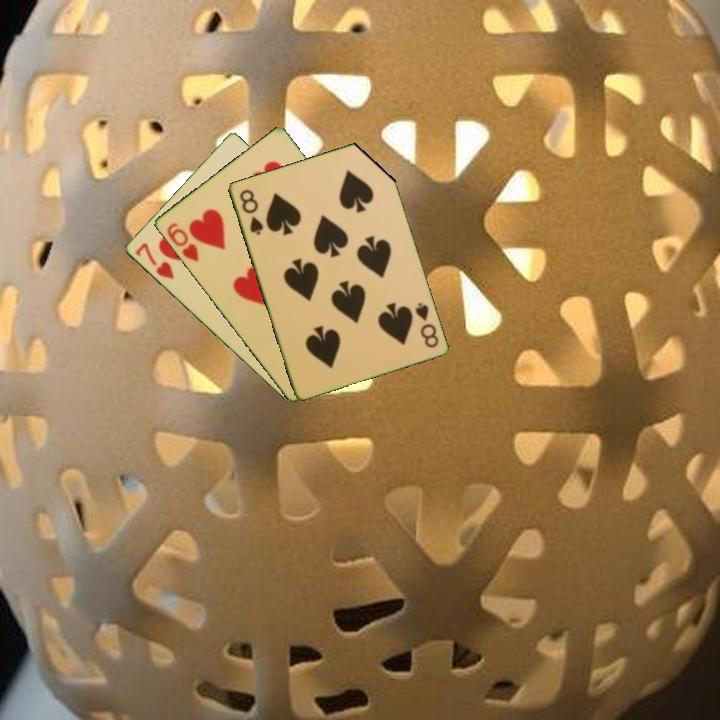6h: (163, 219, 201, 265)
7h: (131, 239, 177, 282)
8s: (236, 185, 266, 238), (411, 299, 441, 351)
